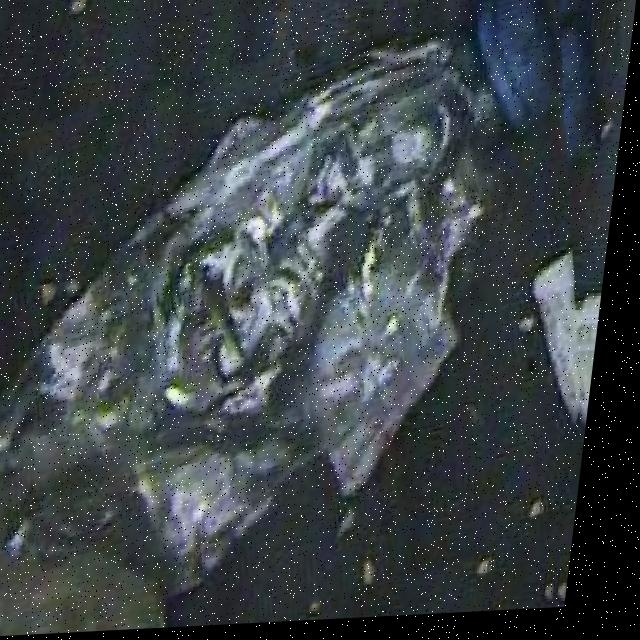litter: (0, 0, 638, 640)
